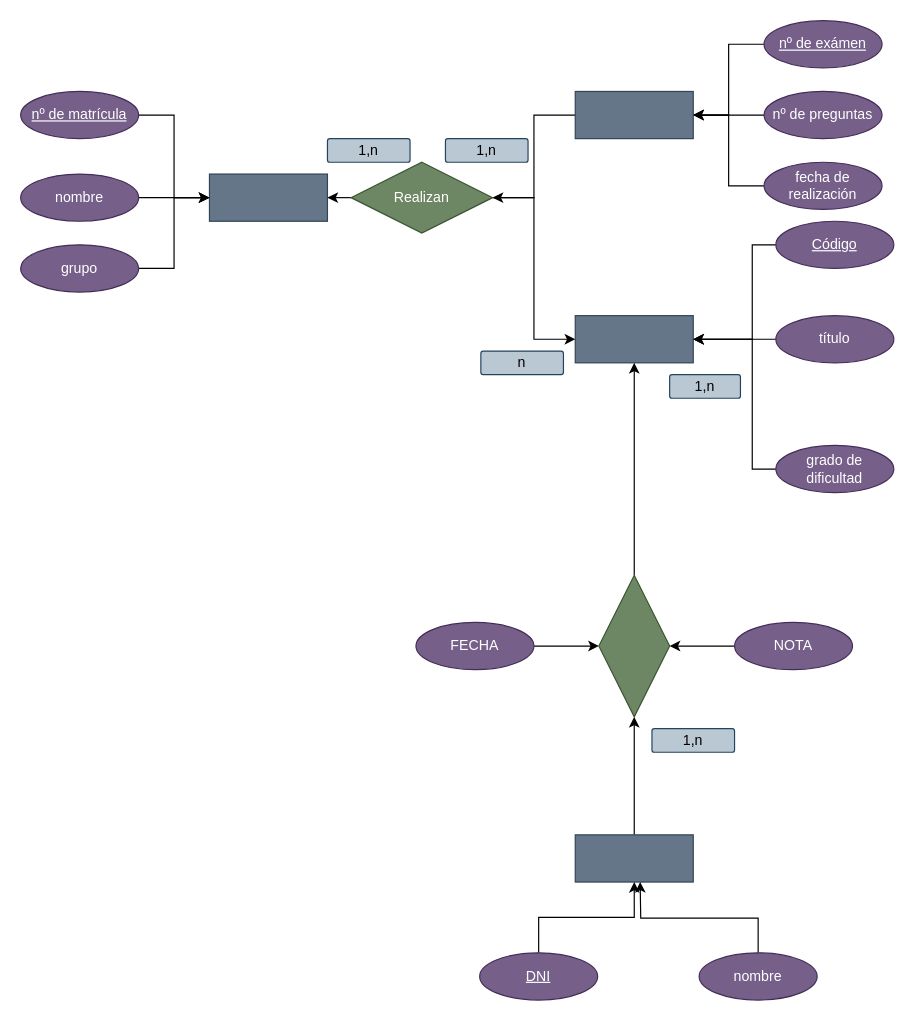
The diagram is 914 pixels wide and 1021 high, and some of its shapes have lost their labels. The shapes that lost their labels are listed below. From the top down, each one's box as (x1, y1, x2, y2) in pixels, then its label:
(574, 90, 693, 139): Exámenes escritos
(208, 173, 327, 221): Alumnos
(574, 314, 693, 363): Prácticas
(598, 574, 670, 717): Diseña
(574, 834, 693, 882): Profesores
